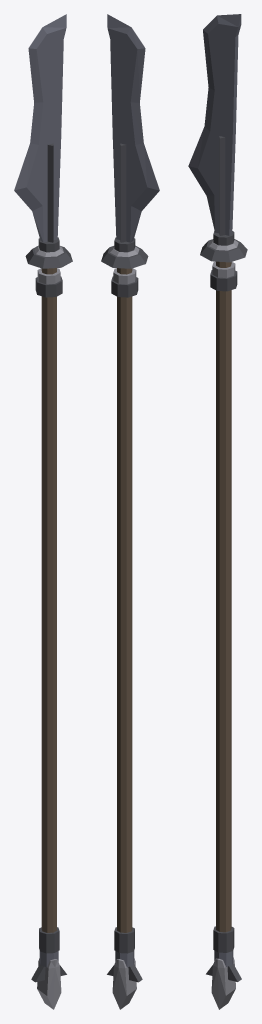
File: Lanca_A22.fbx
3 views of the same model, side by side, from view 1: azimuth 30°, elevation 25°; view 2: azimuth 150°, elevation 25°; view 3: azimuth 330°, elevation 25° (orthographic).
Visible parts, largest first — view 1: polearm_22; view 2: polearm_22; view 3: polearm_22.
Boxes of the visible parts, x1,y1,x2,y2 form: polearm_22: (14,14,72,1009); polearm_22: (101,14,159,1009); polearm_22: (188,14,247,1009).
Size of the model in its own units: 12.38 by 207 by 9.32.
